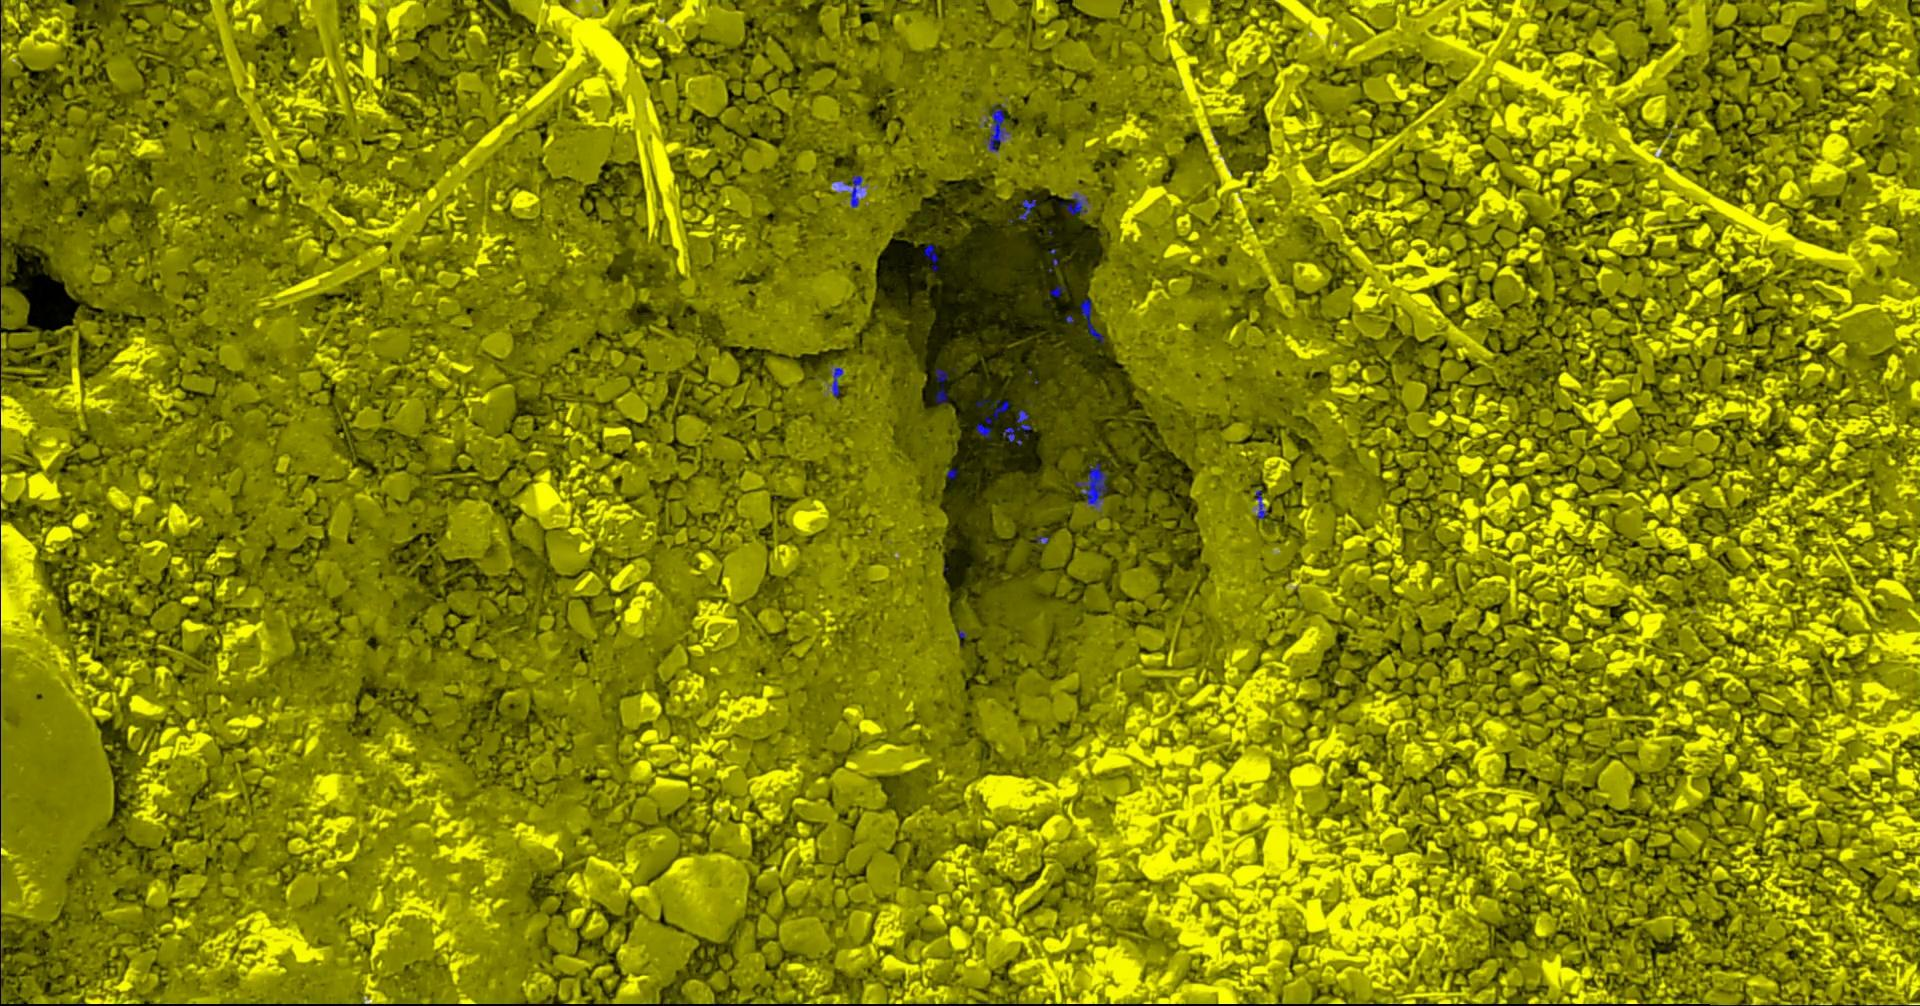ant: (1076, 461, 1107, 518), (975, 399, 1008, 438), (983, 103, 1010, 151), (1079, 297, 1103, 343), (1002, 409, 1031, 445), (842, 174, 862, 207), (1059, 192, 1088, 213), (935, 368, 947, 403), (923, 243, 938, 271), (1017, 198, 1036, 218), (1255, 489, 1267, 520), (830, 367, 842, 398), (1049, 285, 1063, 297)
